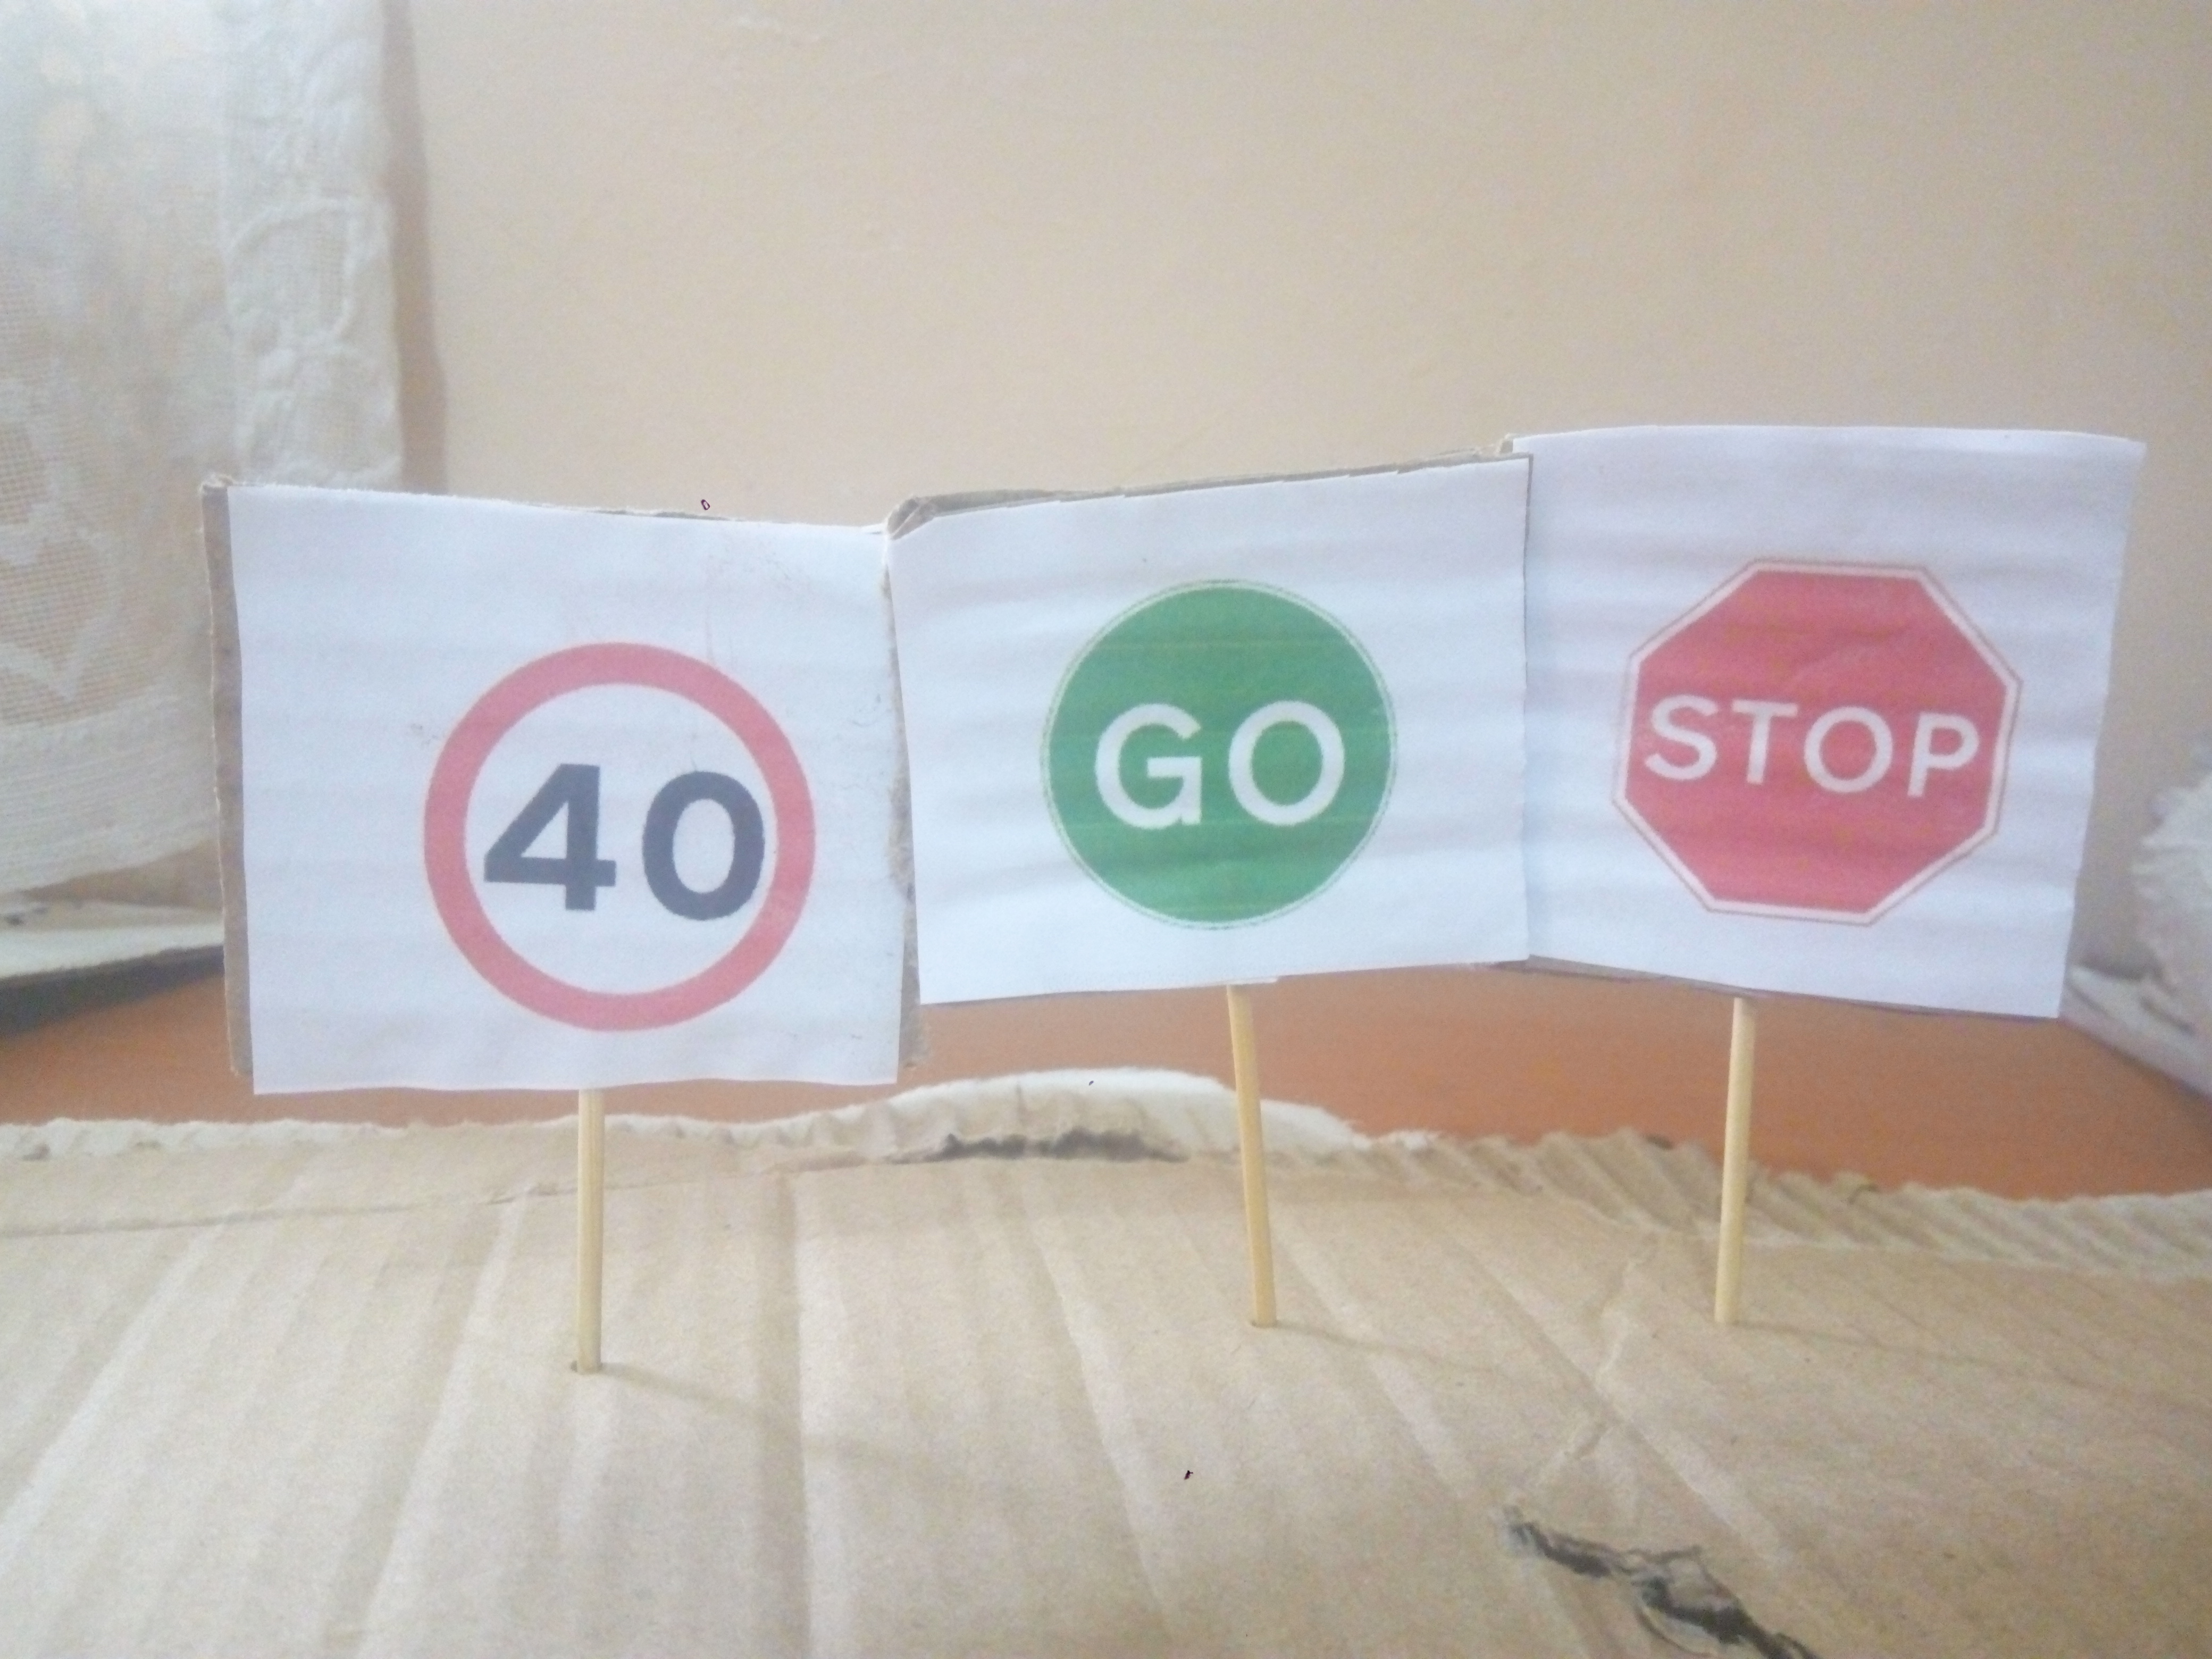40 kph: (408, 608, 834, 1049)
go: (1008, 538, 1437, 955)
stop: (1609, 518, 2050, 955)
